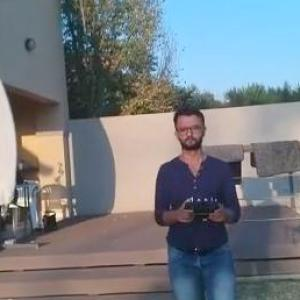follow: (149, 100, 244, 299)
